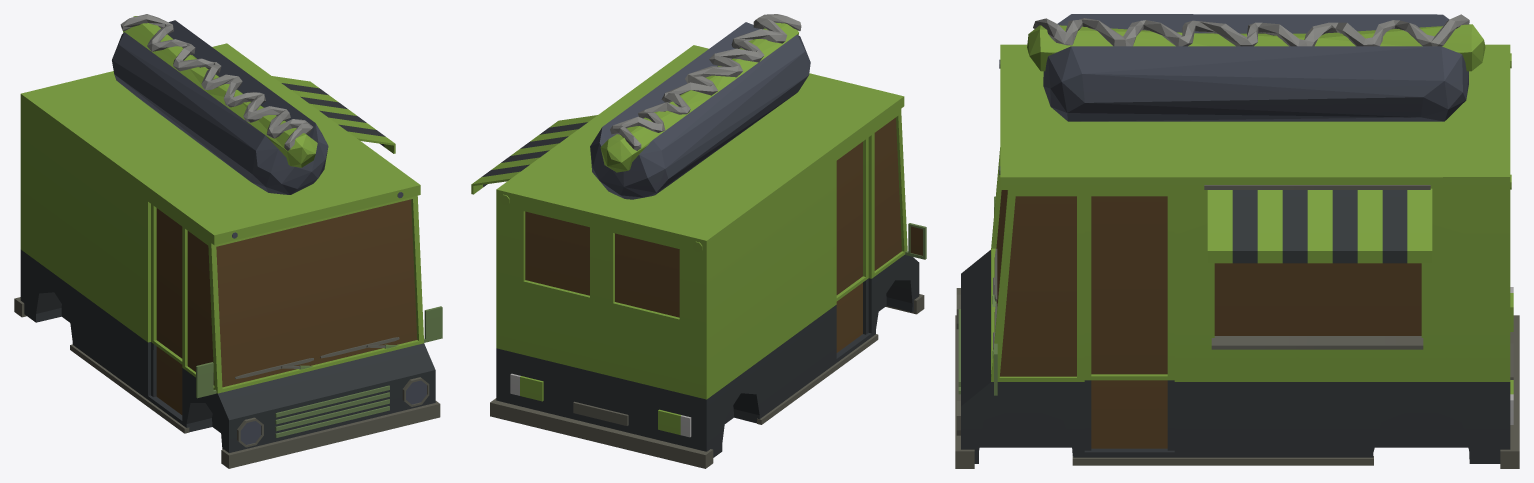
File: Car_30.fbx
The picture shows the model from 3 angles, left to right: view 1: azimuth 30°, elevation 25°; view 2: azimuth 150°, elevation 25°; view 3: azimuth 270°, elevation 25°; orthographic projection. The views are drawn at different scales.
Visible parts, largest first — view 1: Car_30; view 2: Car_30; view 3: Car_30.
Boxes of the visible parts, x1,y1,x2,y2 form: Car_30: (14, 14, 442, 468); Car_30: (471, 14, 926, 468); Car_30: (955, 14, 1519, 468).
Bounding box in the file's own units: 271 × 269 × 360.
